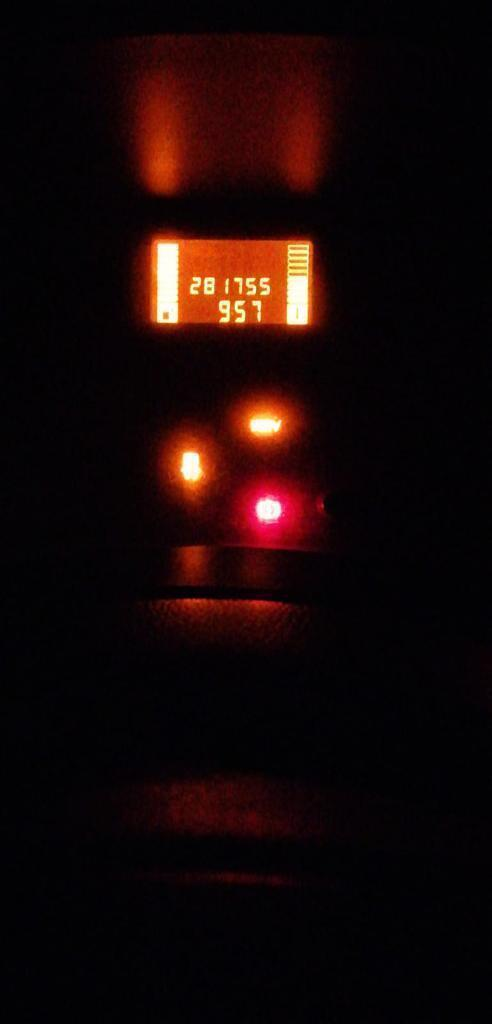1: (221, 276, 230, 295)
2: (188, 275, 201, 295)
5: (233, 299, 246, 324), (258, 276, 271, 296), (245, 276, 257, 296)
7: (250, 298, 262, 323), (232, 276, 243, 295)
8: (202, 275, 216, 295)
9: (217, 298, 230, 324)
odometer: (138, 232, 318, 334)
